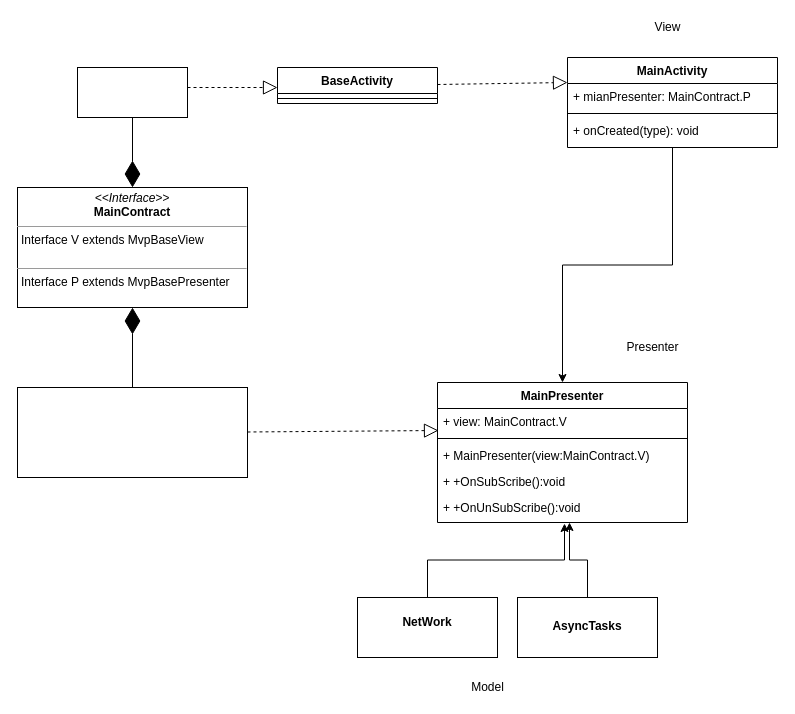
The diagram is 795 pixels wide and 714 high, and some of its shapes have lost their labels. Here are the shapes that lost their labels. From the top down, the centre of each, then its label:
(x=132, y=92): «interface» MvpBaseView
(x=132, y=432): <<Interface>> MvpBasePresenter +OnSubScribe():void +OnUnSubScribe():void
